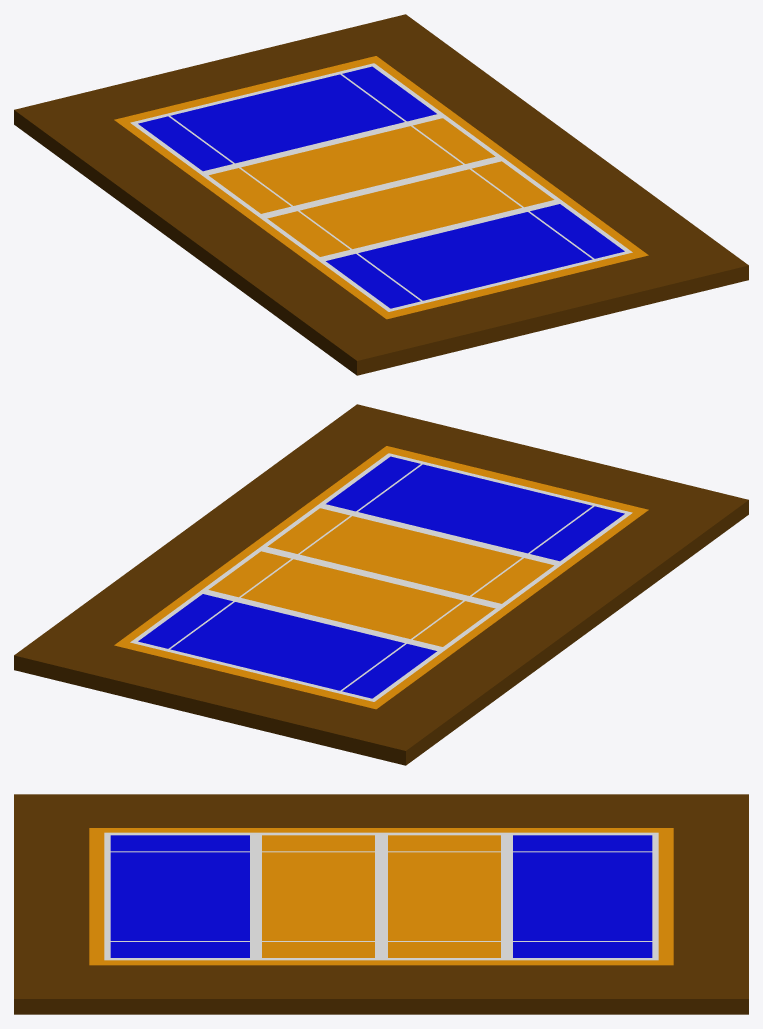
File: Quadra ver 1.fbx
3 views of the same model, one above another, from view 1: azimuth 30°, elevation 25°; view 2: azimuth 150°, elevation 25°; view 3: azimuth 270°, elevation 25° (orthographic). The views are drawn at different scales.
Parts seen in each view (by area): view 1: pCube2; view 2: pCube2; view 3: pCube2.
Boxes of the visible parts, bbox=[...] form: pCube2: bbox=[14, 14, 748, 375]; pCube2: bbox=[14, 404, 748, 765]; pCube2: bbox=[14, 794, 748, 1014].
Bounding box in the file's own units: 2506 × 90 × 3801.
